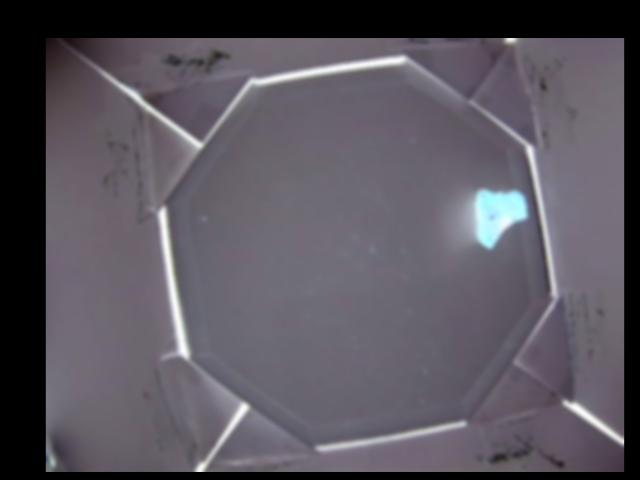Brisk: (473, 189, 528, 249)
